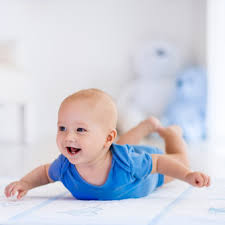child: (5, 85, 214, 200)
